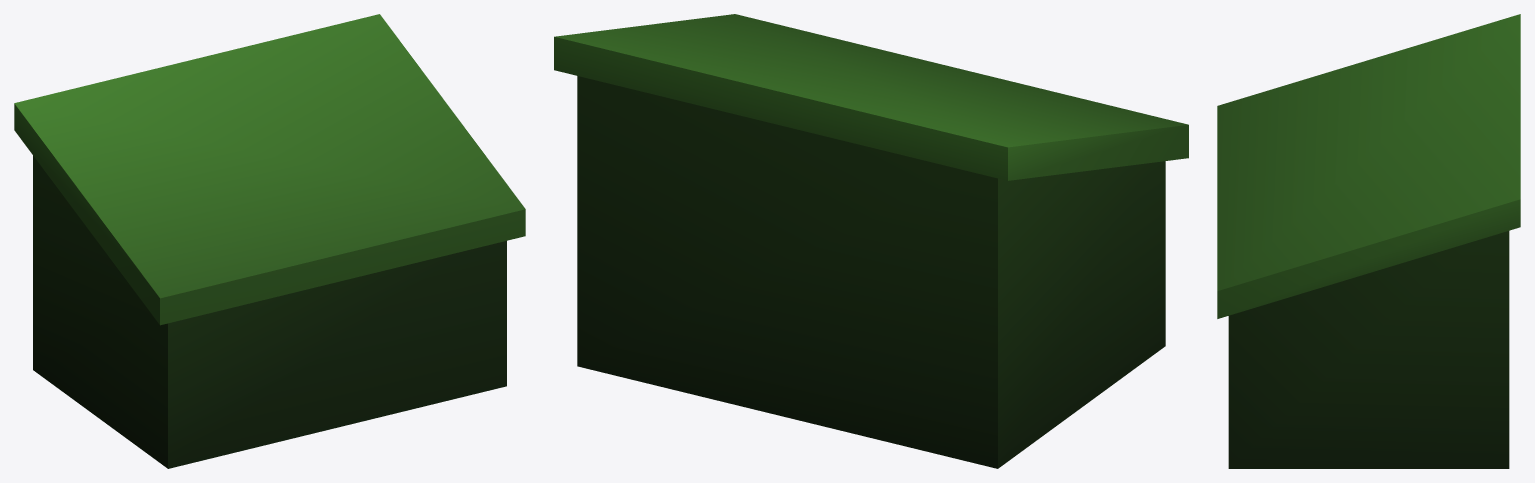
The model's file is Junkbox.FBX.
3 renders of one model, left to right at view 1: azimuth 30°, elevation 25°; view 2: azimuth 150°, elevation 25°; view 3: azimuth 270°, elevation 25°, orthographic. The views are drawn at different scales.
Visible parts, largest first — view 1: Junkbox2; view 2: Junkbox2; view 3: Junkbox2.
Part boxes in pixels (x1,y1,x2,y2): Junkbox2: [14, 14, 525, 468]; Junkbox2: [554, 14, 1188, 468]; Junkbox2: [1217, 14, 1520, 468].
Size of the model in its own units: 21.64 by 15.05 by 14.95.
